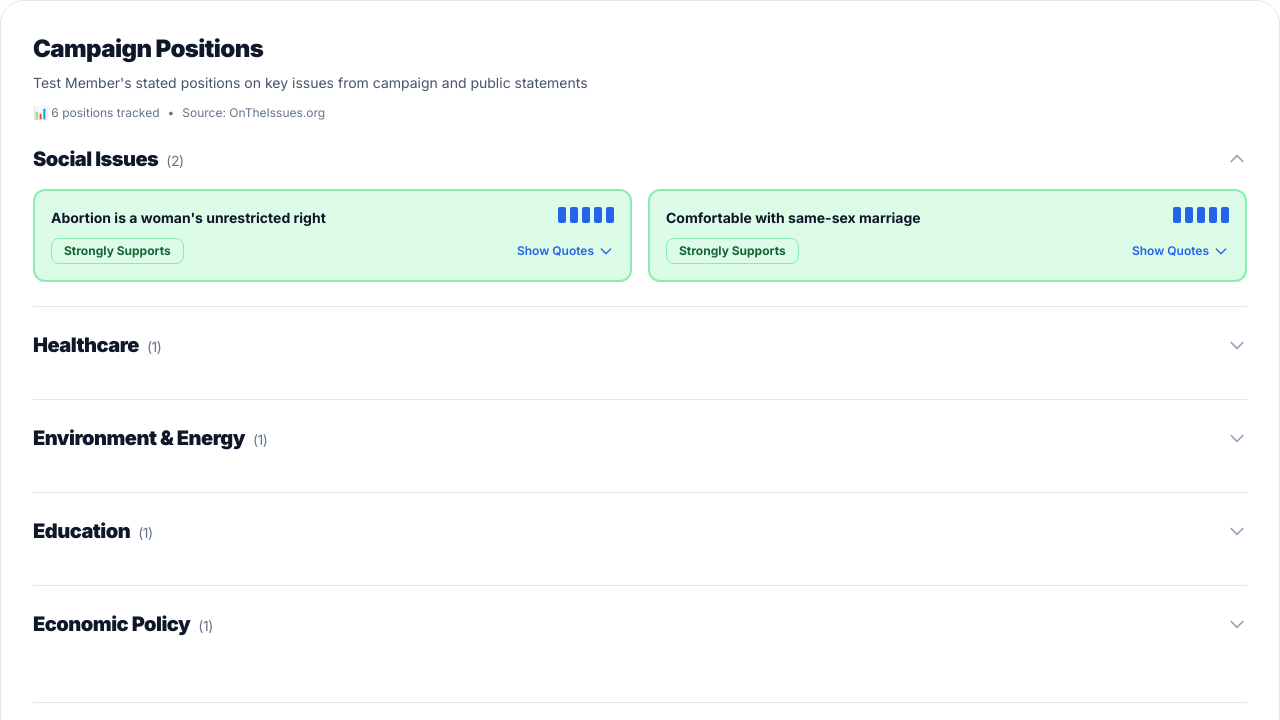
Scenario: CampaignPositions › hides quotes when clicked again
The image size is (1280, 720).
Click the button "Show Quotes" below "Abortion is a woman's unrestricted right".
click(565, 251)  # box [517,243,614,259]
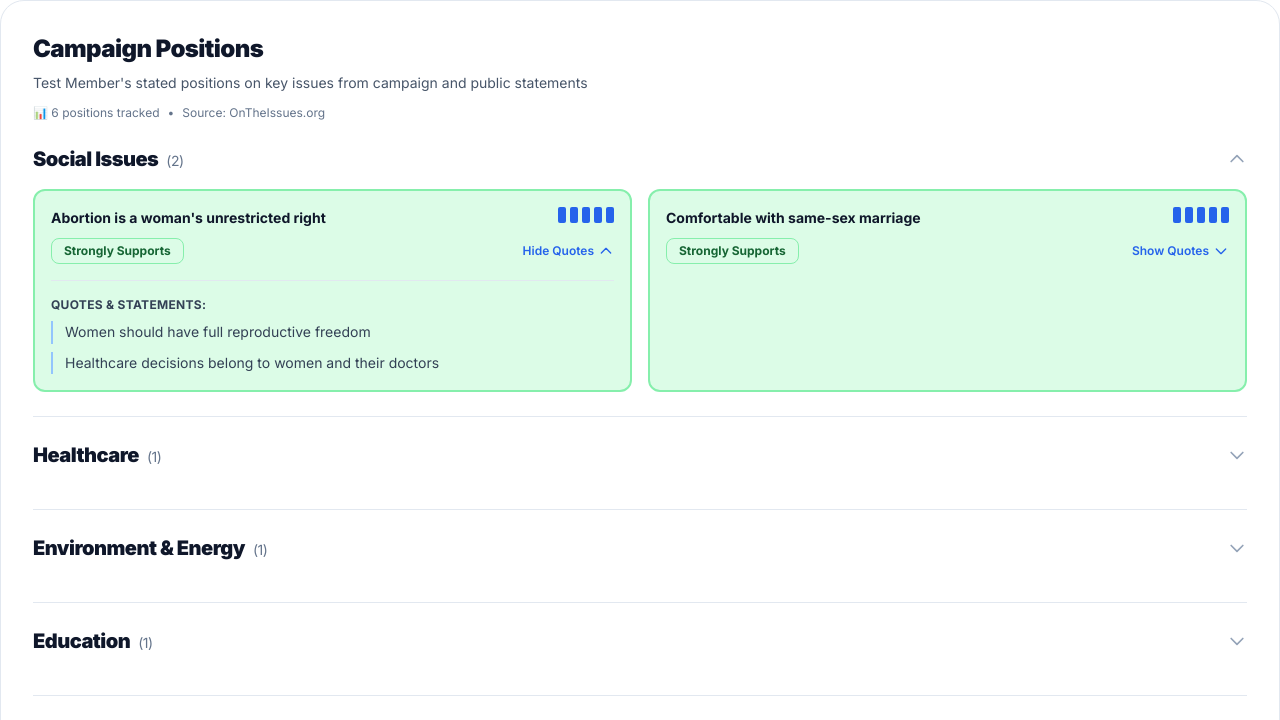
Expected: the list item "Women should have full reproductive freedom" is shown, [51,321,614,344]
// Click hide button
Click the button "Hide Quotes".
click(568, 251)  # box [523,243,614,259]
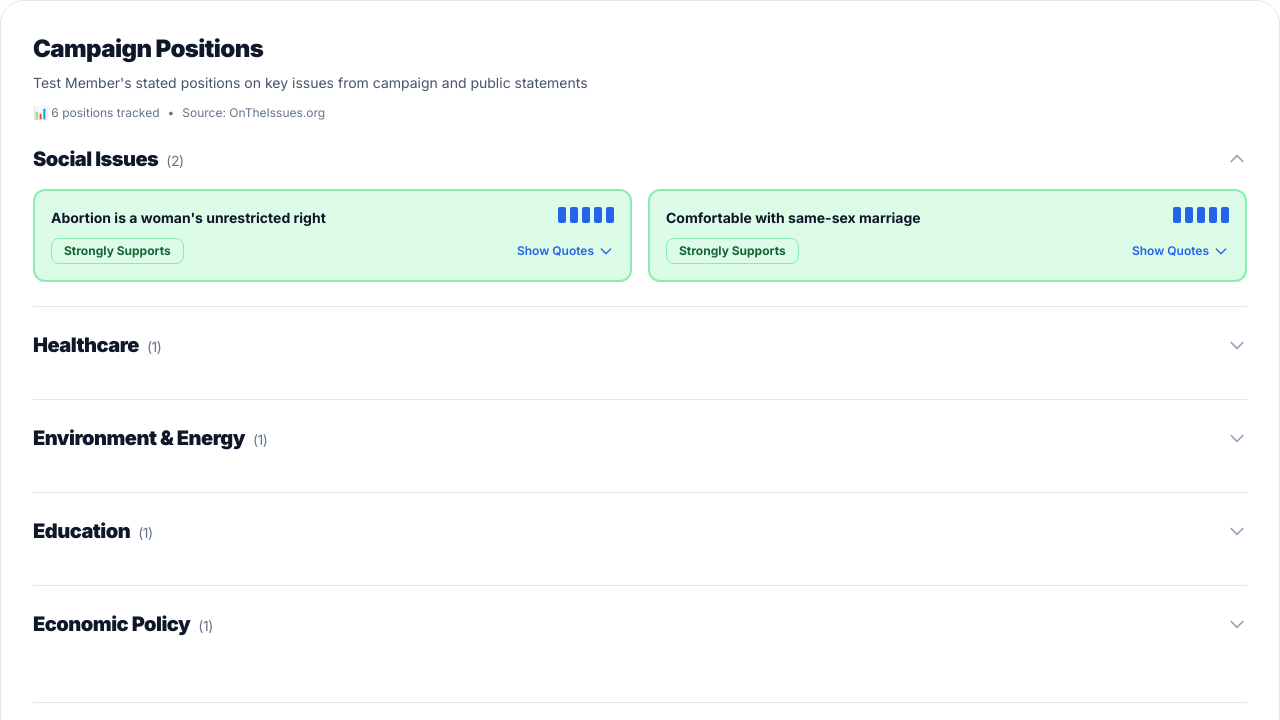
Expected: the list item "Women should have full reproductive freedom" is gone
